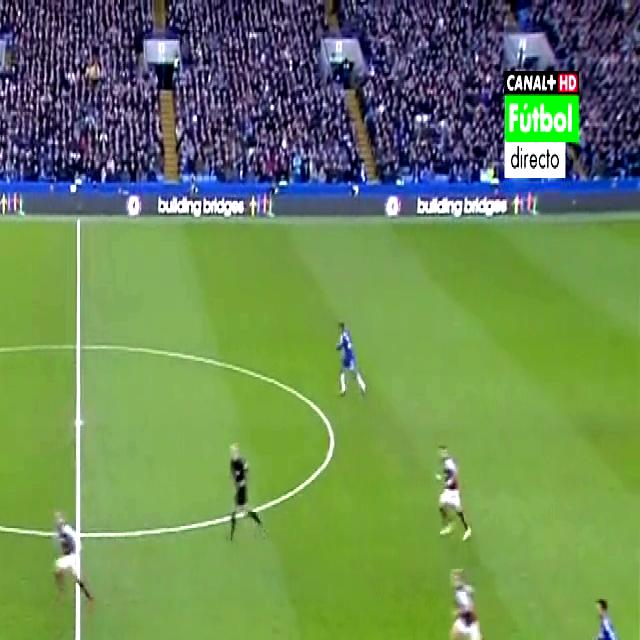referee: (217, 423, 270, 543)
soccer-player: (31, 484, 115, 630), (324, 296, 376, 409), (438, 562, 508, 640), (430, 429, 473, 541), (582, 583, 633, 640)
